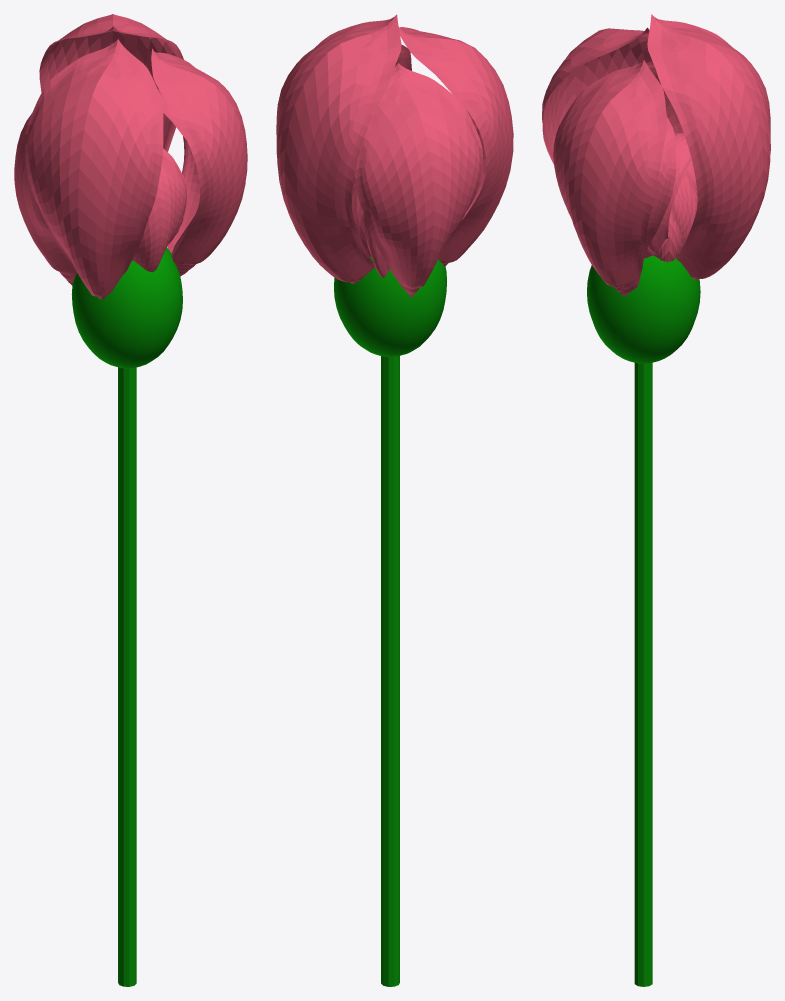
The model's file is Lotus007.fbx.
3 views of the same model, side by side, from view 1: azimuth 30°, elevation 25°; view 2: azimuth 150°, elevation 25°; view 3: azimuth 270°, elevation 25° (orthographic).
Parts seen in each view (by area): view 1: nurbsToPoly11, pCylinder1, nurbsToPoly24, pSphere4, nurbsToPoly10, nurbsToPoly8, nurbsToPoly12, nurbsToPoly9; view 2: nurbsToPoly10, nurbsToPoly12, pCylinder1, nurbsToPoly11, pSphere4, nurbsToPoly23, nurbsToPoly17; view 3: nurbsToPoly10, nurbsToPoly24, pCylinder1, pSphere4, nurbsToPoly11, nurbsToPoly9, nurbsToPoly22, nurbsToPoly17, nurbsToPoly15.
Boxes of the visible parts, x1,y1,x2,y2 form: nurbsToPoly11: (24, 39, 163, 299); pCylinder1: (118, 367, 136, 986); nurbsToPoly24: (151, 48, 247, 276); pSphere4: (71, 247, 182, 368); nurbsToPoly10: (39, 14, 183, 151); nurbsToPoly8: (132, 149, 186, 272); nurbsToPoly12: (14, 113, 77, 285); nurbsToPoly9: (158, 89, 199, 258); nurbsToPoly10: (276, 14, 401, 283); nurbsToPoly12: (354, 63, 482, 297); pCylinder1: (381, 356, 399, 986); nurbsToPoly11: (398, 27, 513, 266); pSphere4: (334, 256, 446, 356); nurbsToPoly23: (363, 213, 389, 277); nurbsToPoly17: (351, 176, 371, 256); nurbsToPoly10: (647, 14, 770, 280); nurbsToPoly24: (553, 60, 667, 296); pCylinder1: (634, 362, 652, 986); pSphere4: (587, 255, 700, 363); nurbsToPoly11: (542, 27, 652, 164); nurbsToPoly9: (645, 117, 676, 251); nurbsToPoly22: (647, 133, 692, 254); nurbsToPoly17: (671, 171, 697, 249); nurbsToPoly15: (647, 212, 682, 262).
Bounding box in the file's own units: 12.59 × 56.11 × 12.07.
